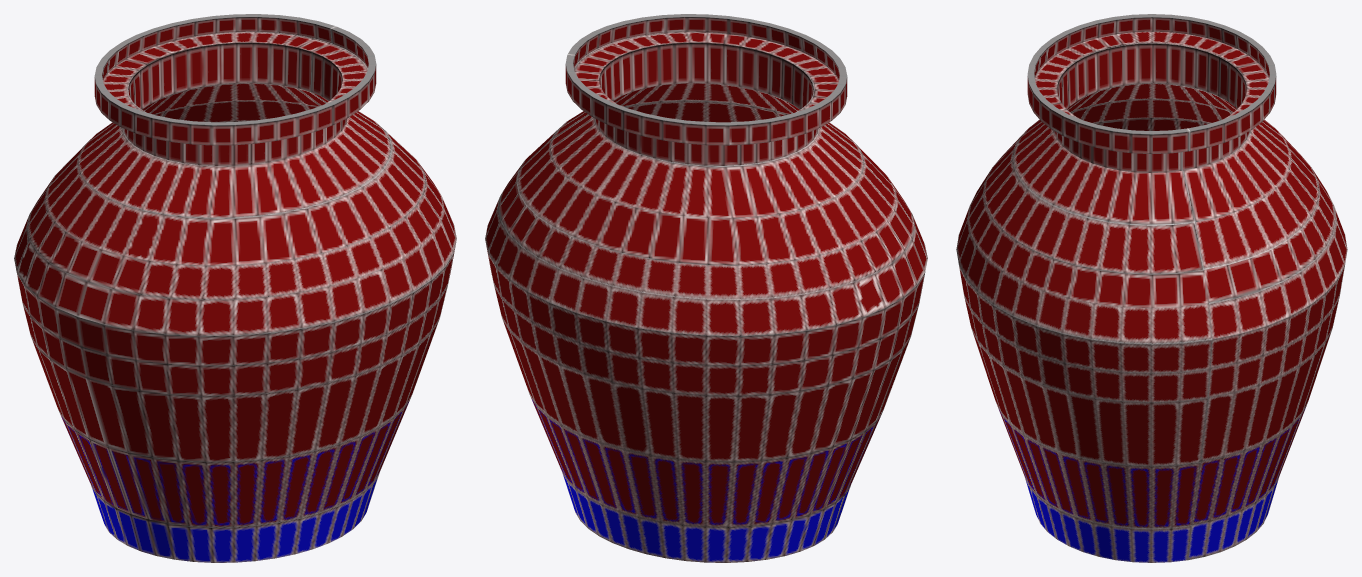
The model's file is pitcher.obj.
The picture shows the model from 3 angles, left to right: view 1: azimuth 30°, elevation 25°; view 2: azimuth 150°, elevation 25°; view 3: azimuth 270°, elevation 25°; orthographic projection. The views are drawn at different scales.
Parts seen in each view (by area): view 1: Circle; view 2: Circle; view 3: Circle.
Part boxes in pixels (<box>): Circle: <box>14,14,456,562</box>; Circle: <box>485,14,927,562</box>; Circle: <box>956,14,1347,562</box>.
Bounding box in the file's own units: 2.37 × 2.53 × 2.07.
1 material, 1 textured.
